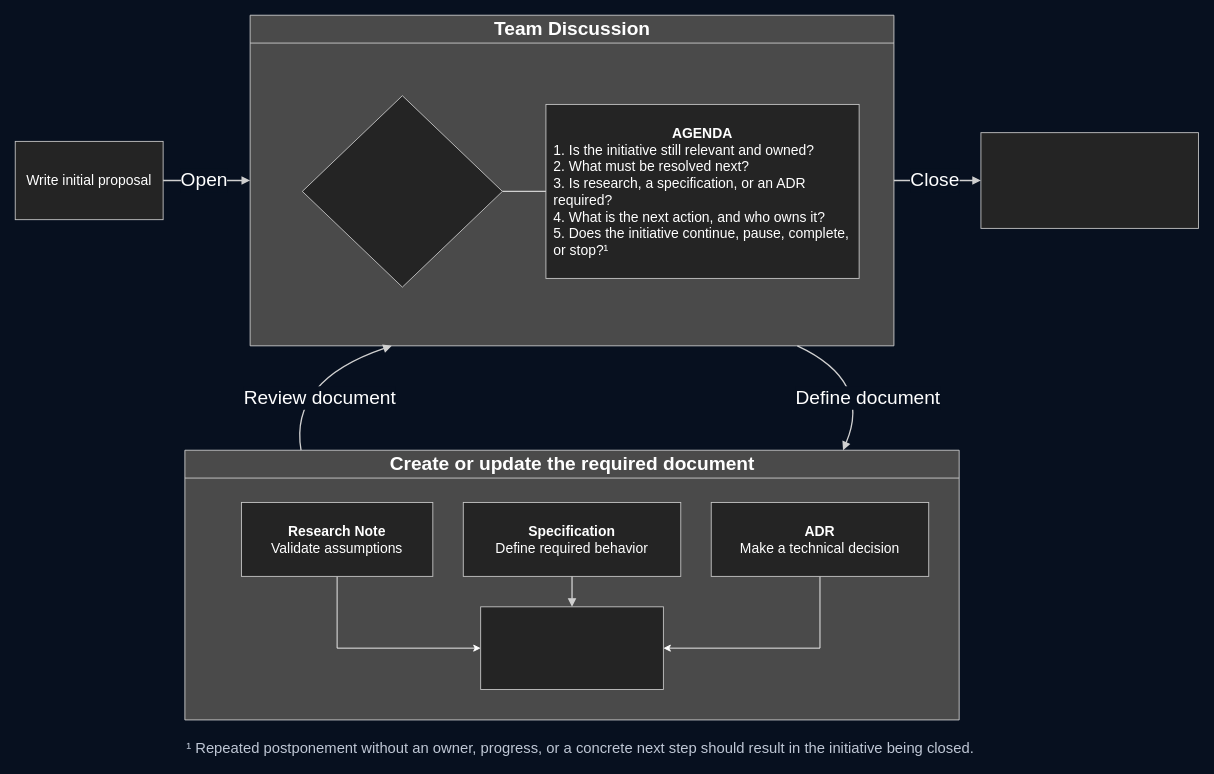
Image size: 1214x774. Some labels were removed from this diagram. The shapes that lost their labels are listed below. From the top down, each one's centre as x and y in pixels, then its label:
At pixel 401 191: "Review the initiative".
At pixel 1089 180: "Record final status, reason, and outcome in the README".
At pixel 571 647: "Update README and initiative".
